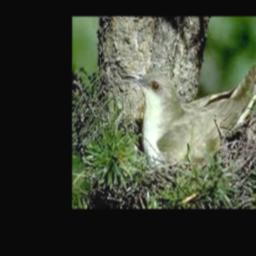Cuckoo: (120, 63, 256, 167)
